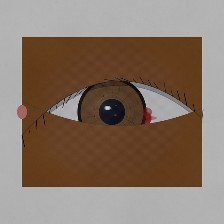hemorrhage_spot: (81, 86, 163, 151)
